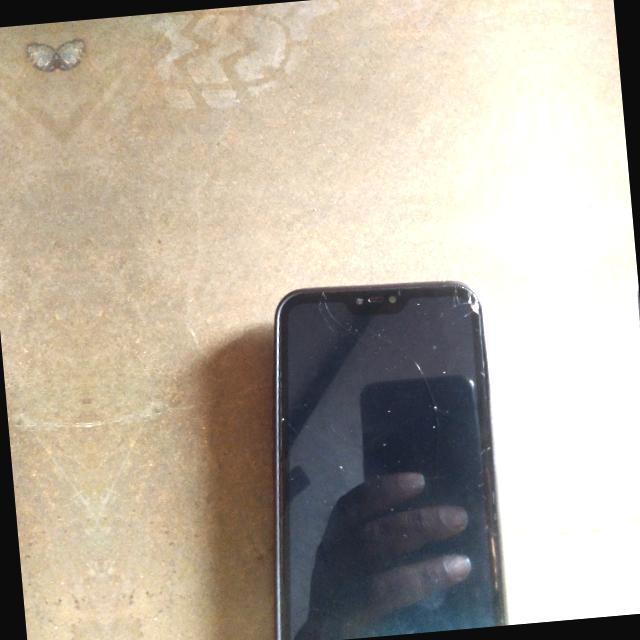phone_screen: (277, 284, 503, 639), (638, 288, 639, 306)
